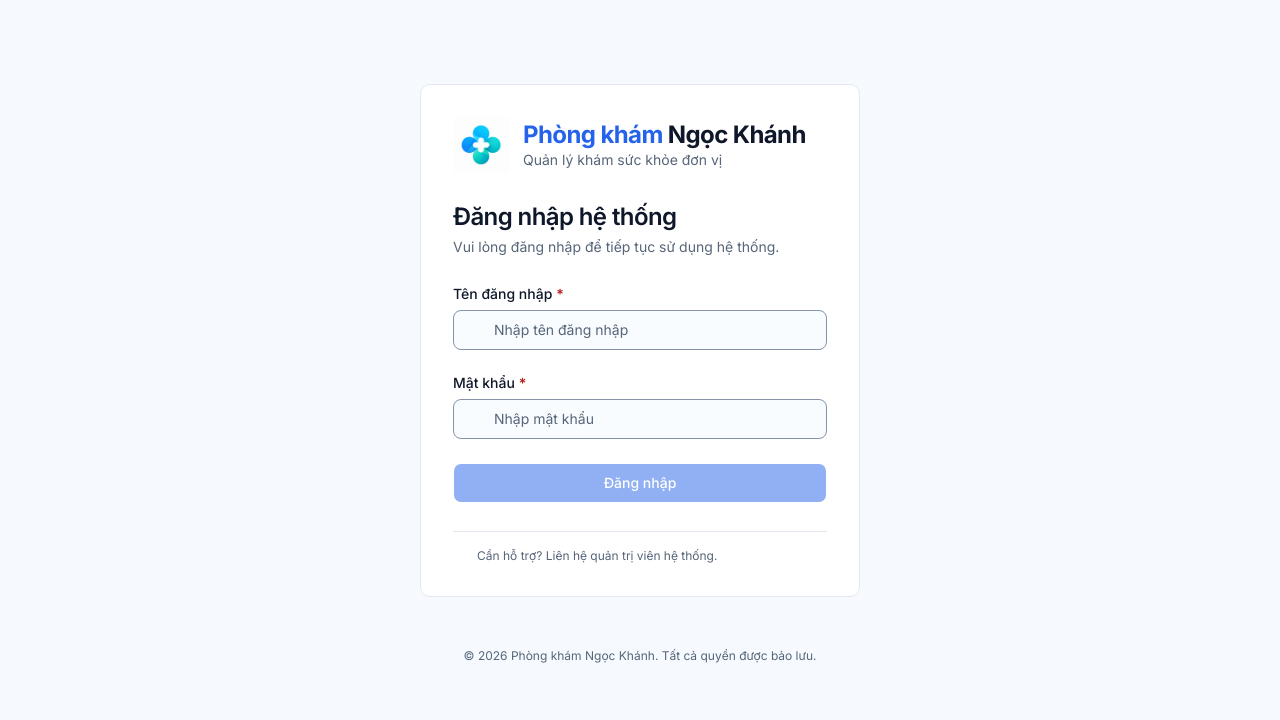
Scenario: staff login screen › shows a patient without staff access after successful login
The image size is (1280, 720).
Type "staff.test" into the field with placeholder "Nhập tên đăng nhập" at (640, 330), box [453,310,827,350]
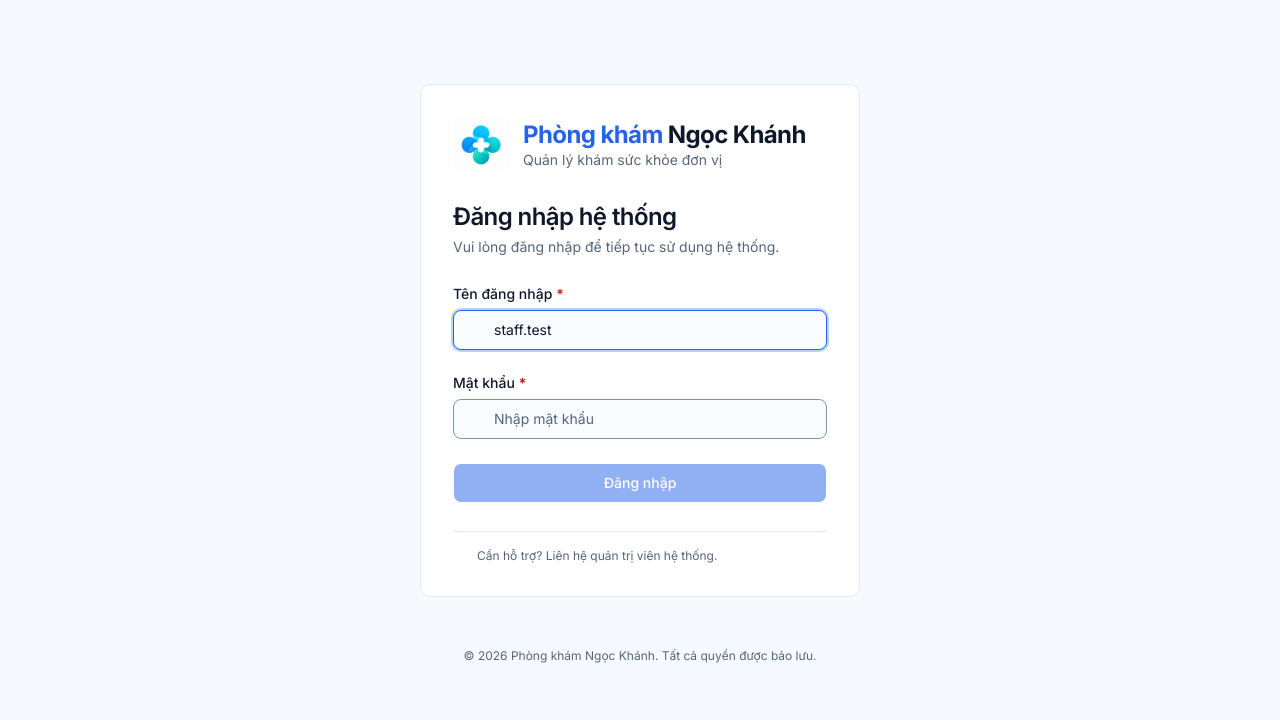
Type "secret" into the password field with placeholder "Nhập mật khẩu" at (640, 418), box [453,398,827,438]
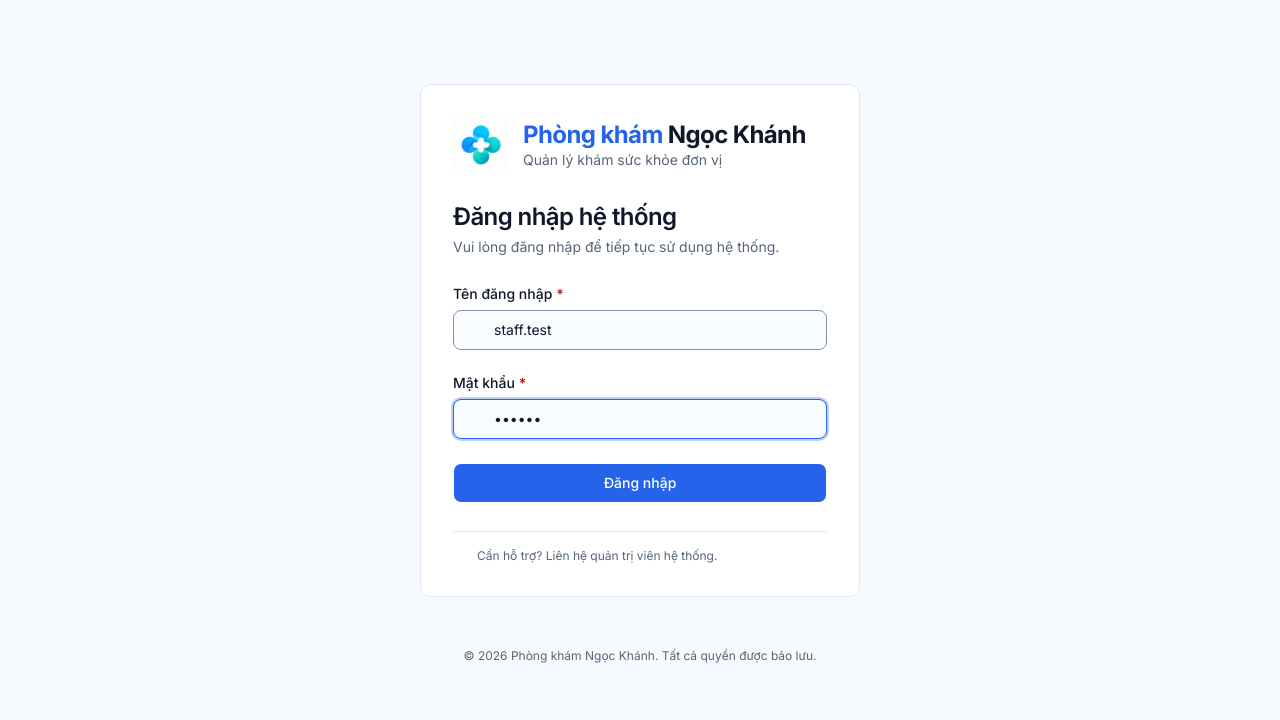
Click the button "Đăng nhập" at (640, 482), box [453,462,827,502]
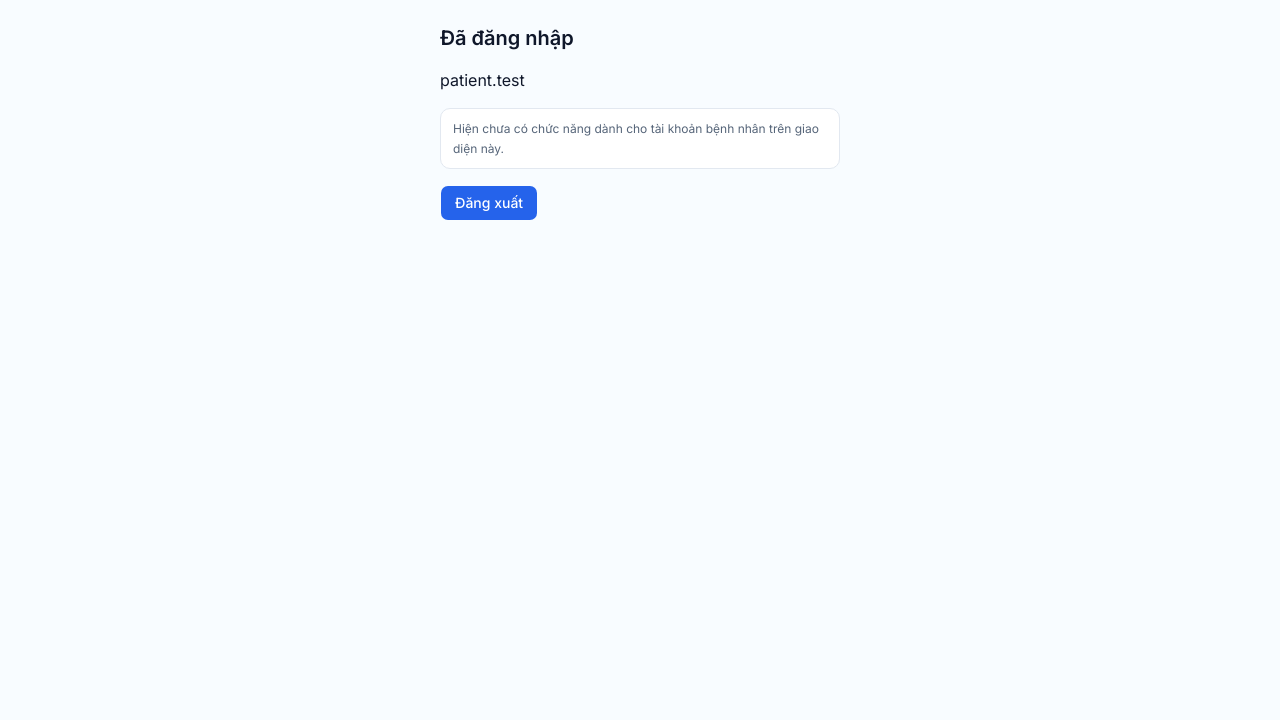
Now the text "patient.test" is shown, box [440,70,525,90]
Now the button "Đăng xuất" is shown, box [440,185,538,221]
